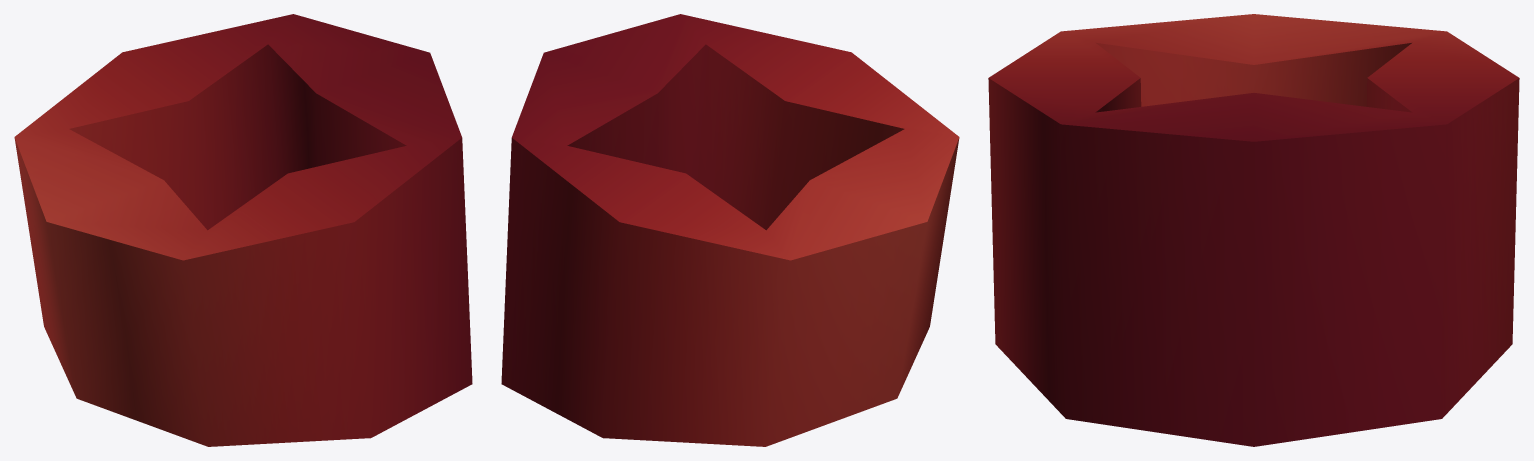
Rendered from Chili_Pepper_Slice_02.glb.
The picture shows the model from 3 angles, left to right: view 1: azimuth 30°, elevation 25°; view 2: azimuth 150°, elevation 25°; view 3: azimuth 270°, elevation 25°; orthographic projection. The views are drawn at different scales.
Parts seen in each view (by area): view 1: Chili_Pepper_Slice_02; view 2: Chili_Pepper_Slice_02; view 3: Chili_Pepper_Slice_02.
Part boxes in pixels (x1=…): Chili_Pepper_Slice_02: x1=14, y1=14, x2=472, y2=446; Chili_Pepper_Slice_02: x1=501, y1=14, x2=959, y2=446; Chili_Pepper_Slice_02: x1=988, y1=14, x2=1519, y2=446.
Size of the model in its own units: 0.1066 by 0.0678 by 0.1089.
Materials: 1 (1 with a texture image).
